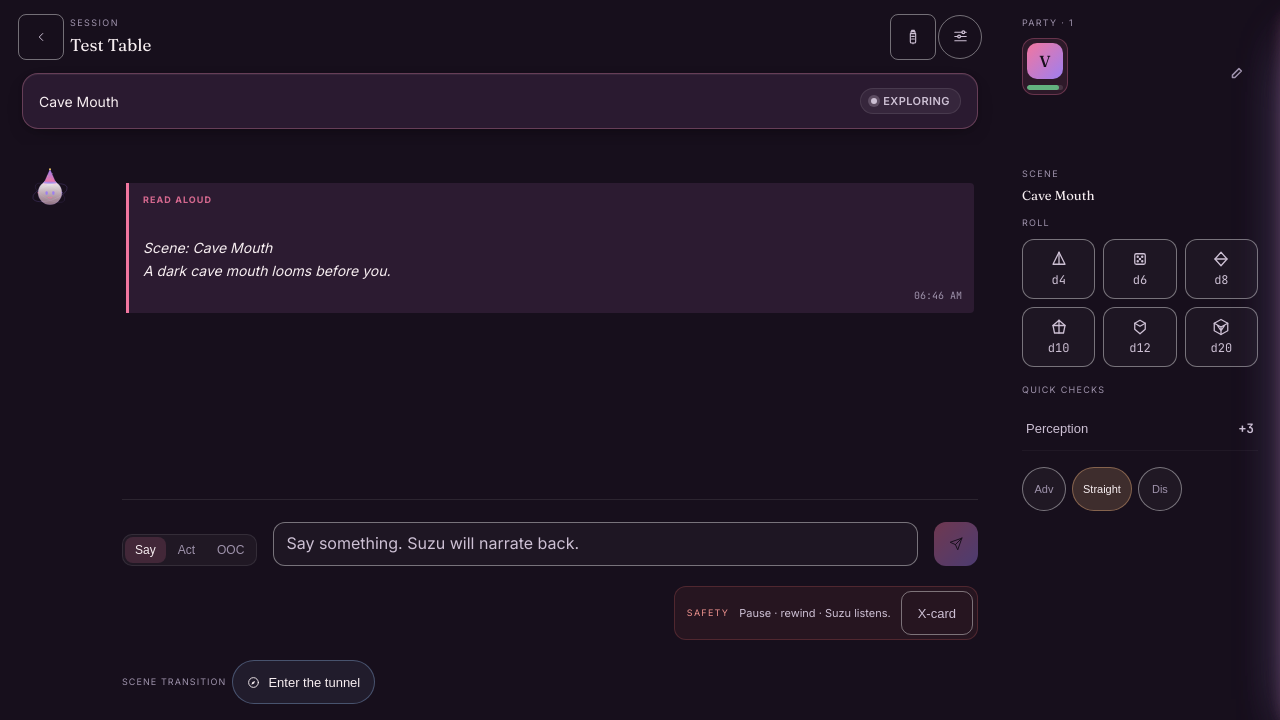
Pass-3 synthetic beat #3 (scene-transition / onMoveOn) — flag ON, §8 items 2/3/4/6 › per-beat dedup: the durable player_action appends exactly once and the narration reconciles to exactly one row
Check: the text "Test Table" is shown, box 70,32 -> 151,57
Click the button "Enter the tunnel": (304, 682) 232,660 -> 375,704
Wait 4000 ms
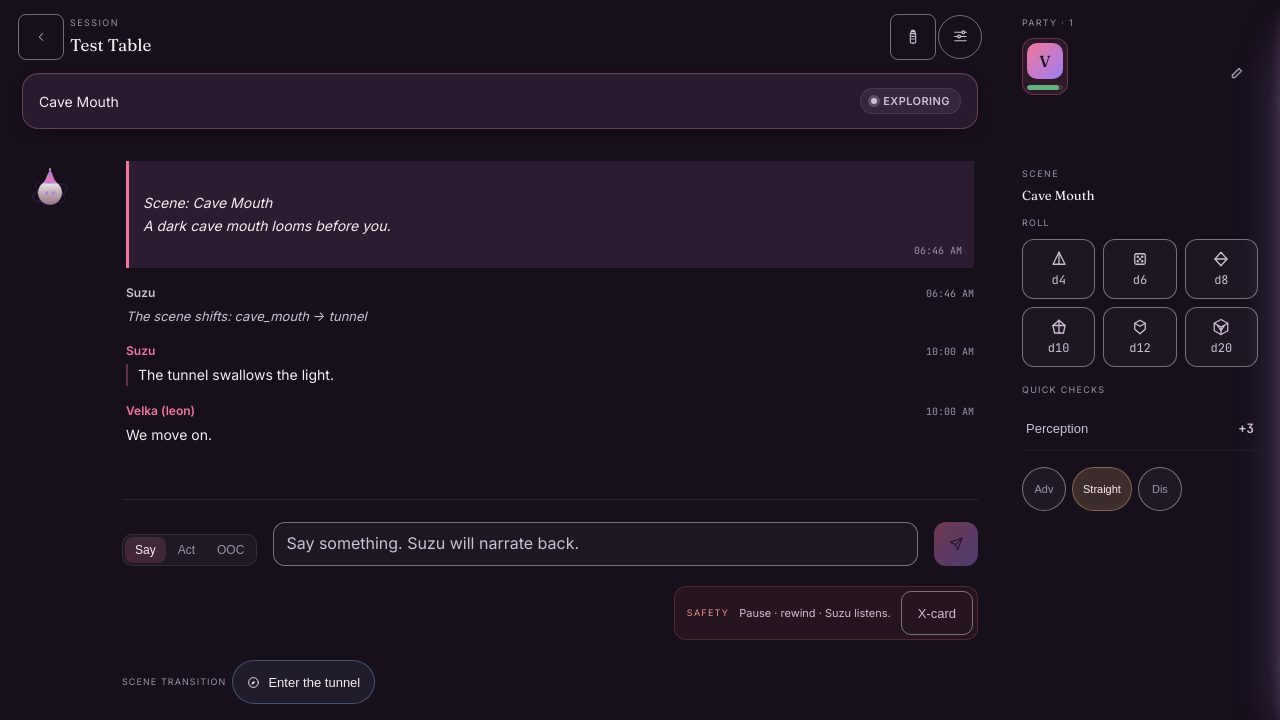
Check: the text "We move on." is shown once, box 126,426 -> 212,443
Check: the text "The tunnel swallows the light." is shown once, box 126,364 -> 974,386
